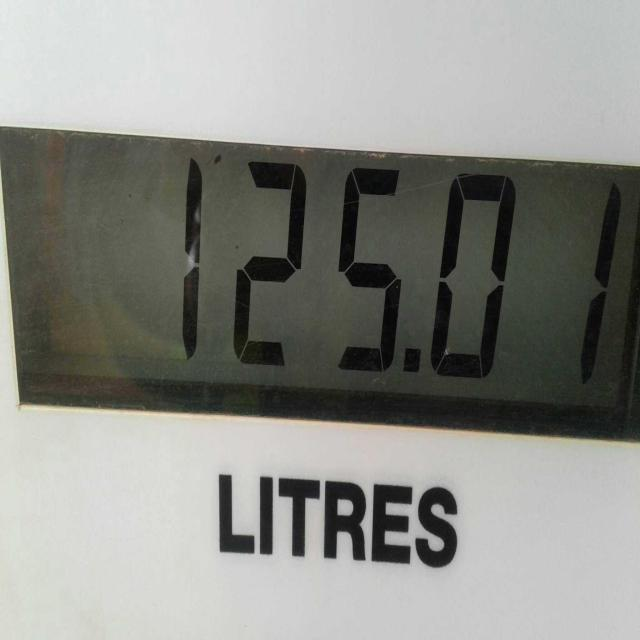.: (390, 331, 432, 400)
0: (422, 155, 524, 407)
1: (157, 145, 225, 382), (566, 165, 630, 410)
2: (228, 144, 316, 386)
5: (322, 152, 414, 400)
